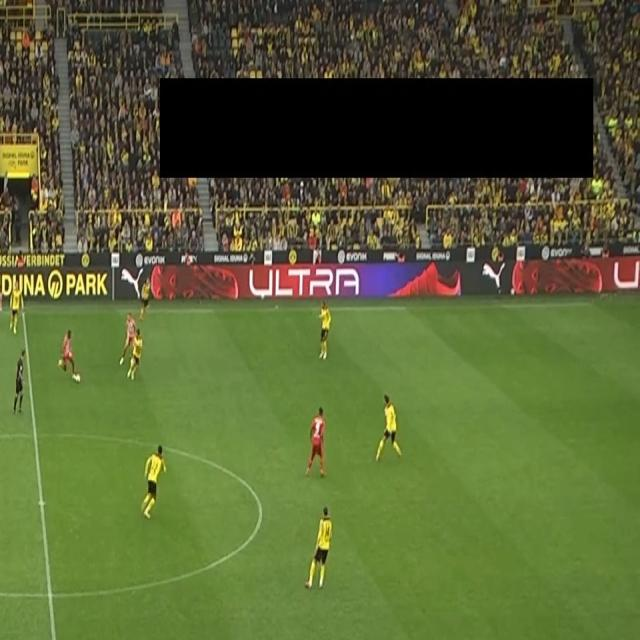ball: (75, 372, 82, 383)
